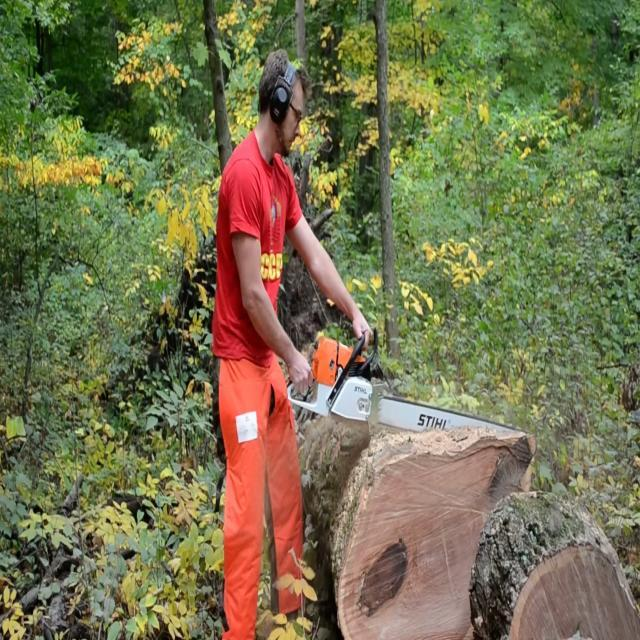Chainsaw: (272, 344, 534, 456)
